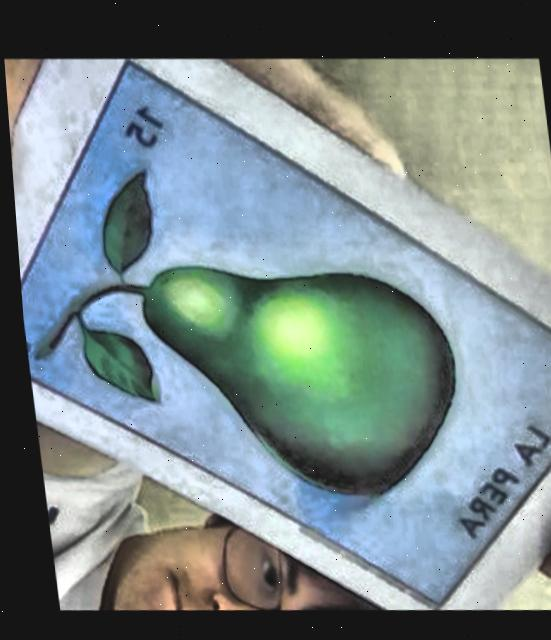La Pera: (17, 59, 551, 598)
